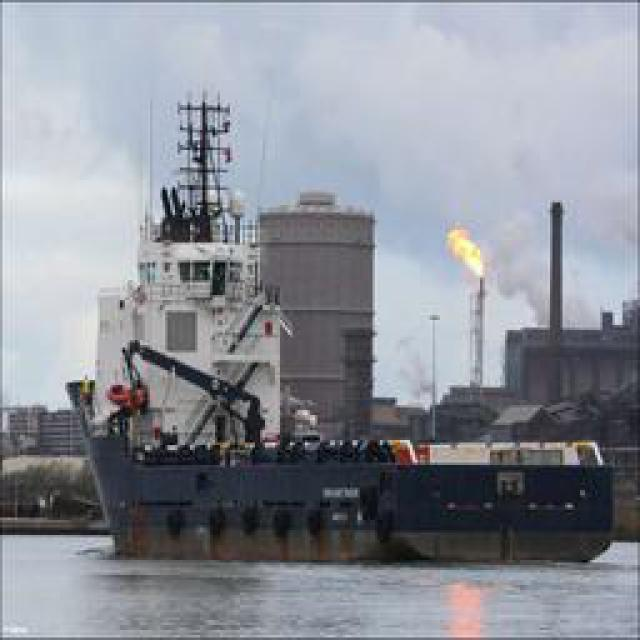Ship: (68, 321, 623, 561)
